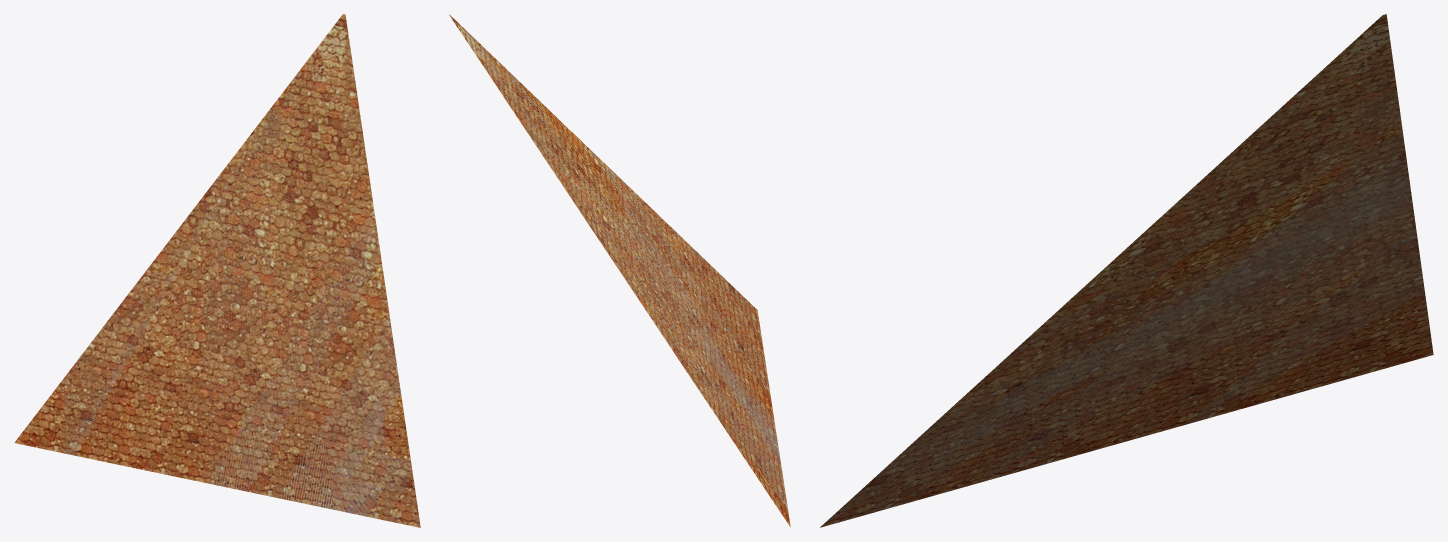
The model's file is 西庸城堡210.dae.
3 views of the same model, side by side, from view 1: azimuth 30°, elevation 25°; view 2: azimuth 150°, elevation 25°; view 3: azimuth 270°, elevation 25° (orthographic). The views are drawn at different scales.
Parts seen in each view (by area): view 1: SketchUp; view 2: SketchUp; view 3: SketchUp.
Part boxes in pixels (x1,y1,x2,y2): SketchUp: (14, 14, 420, 527); SketchUp: (449, 14, 790, 527); SketchUp: (820, 14, 1433, 527).
Bounding box in the file's own units: 249 × 258 × 274.
